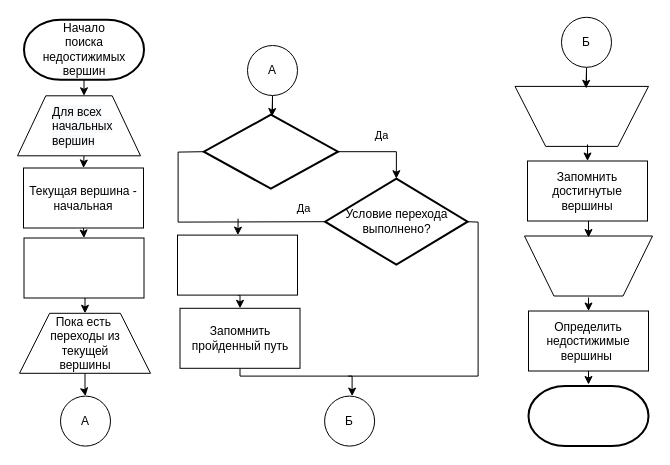
The diagram is 670 pixels wide and 465 high, and some of its shapes have lost their labels. Each missing label, with the centre of its shape:
Есть условие перехода?: pixel 270 151
Конец поиска недостижимых вершин: pixel 588 416
Конец цикла по начальным вершинам: pixel 588 265
Конец цикла по переходам: pixel 581 115
Пройденный путь пуст: pixel 83 267
Текущую вершину изменить на целевую: pixel 237 264
